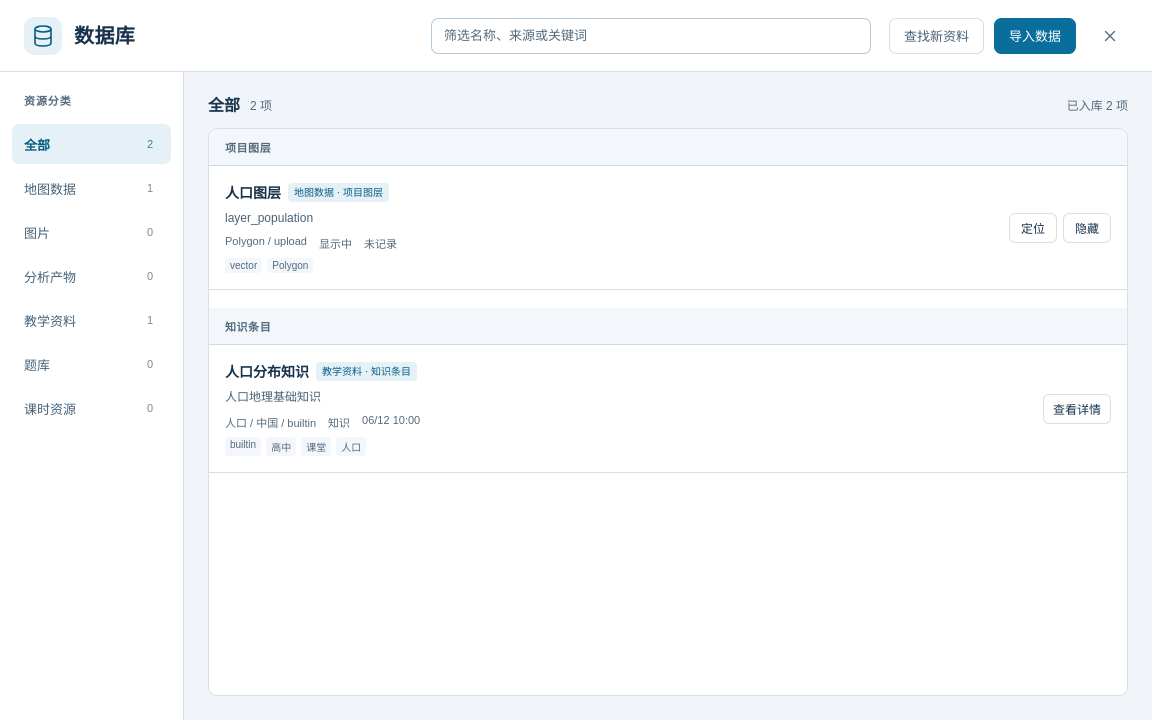
Test: DatabaseViewer › renders a clean data-management heading and searchable records
The width and height of the screenshot is (1152, 720).
Expected: the heading "数据库" is shown, left=74, top=22, right=135, bottom=50
Expected: the element with test id "database-section-knowledge" shows "人口分布知识", left=225, top=364, right=309, bottom=380
Type "不存在的关键词xyz" into the field named "筛选已入库内容" at (651, 36), box left=431, top=18, right=871, bottom=54
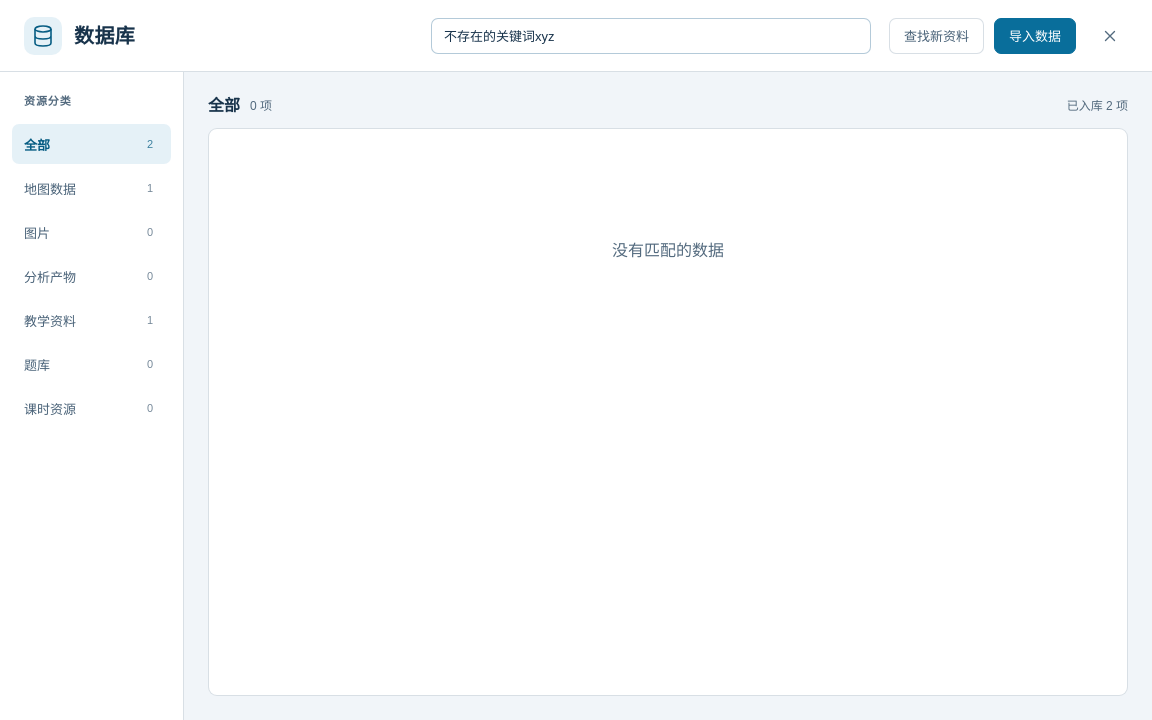
Expected: the text "人口分布知识" is gone
Expected: the text "人口图层" is gone
Expected: the text "没有匹配的数据" is shown, left=612, top=242, right=724, bottom=259
